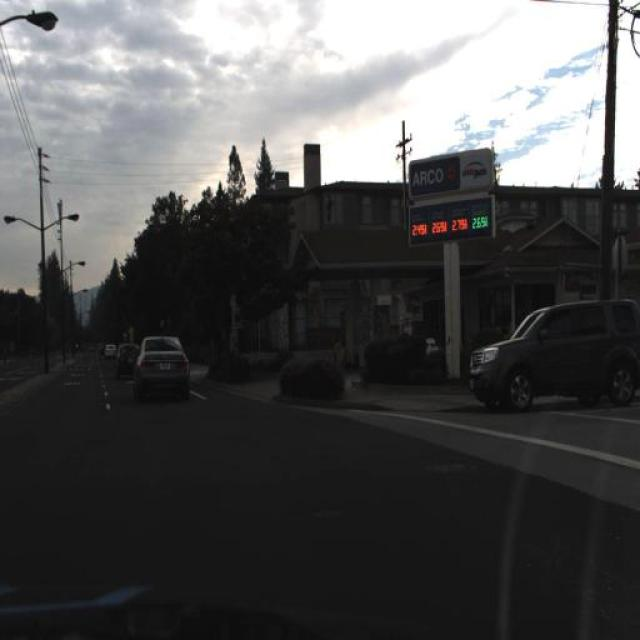car: (467, 296, 639, 422), (132, 334, 193, 404), (116, 342, 144, 386), (115, 339, 141, 383)
